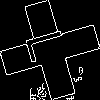L: (25, 25, 76, 64)
